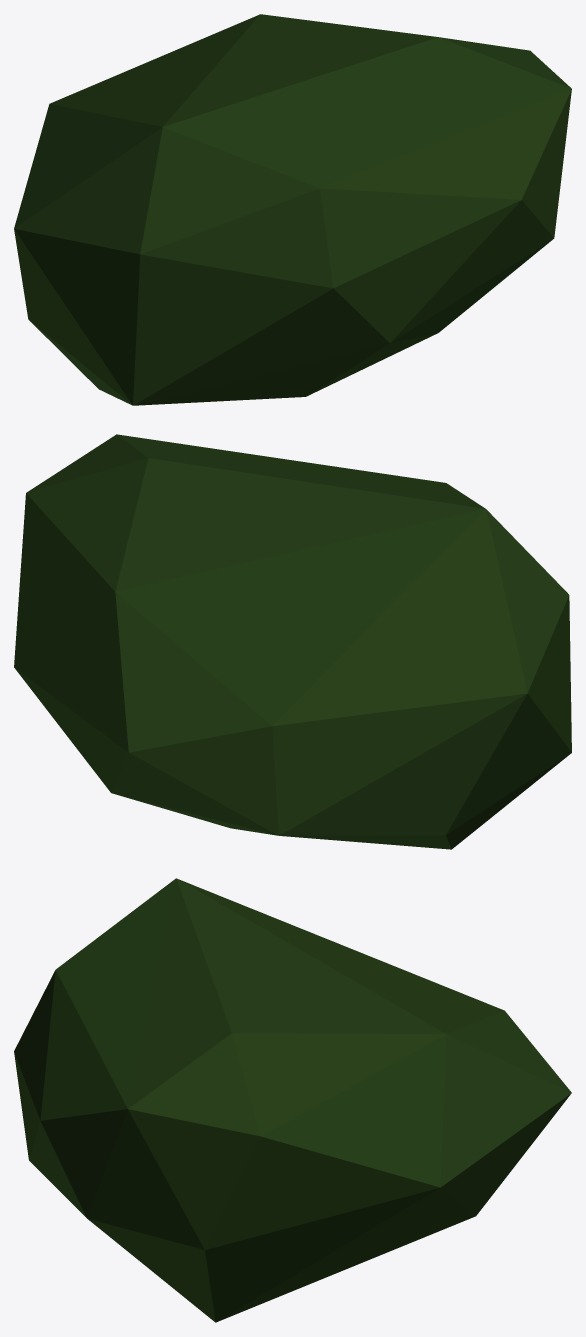
File: SM_bush_04.fbx
3 views of the same model, one above another, from view 1: azimuth 30°, elevation 25°; view 2: azimuth 150°, elevation 25°; view 3: azimuth 270°, elevation 25° (orthographic). The views are drawn at different scales.
Parts seen in each view (by area): view 1: Object125; view 2: Object125; view 3: Object125.
Boxes of the visible parts, x1,y1,x2,y2 form: Object125: (14,14,571,405); Object125: (14,434,571,849); Object125: (14,878,571,1322).
Size of the model in its own units: 87.69 by 48.94 by 82.55.
